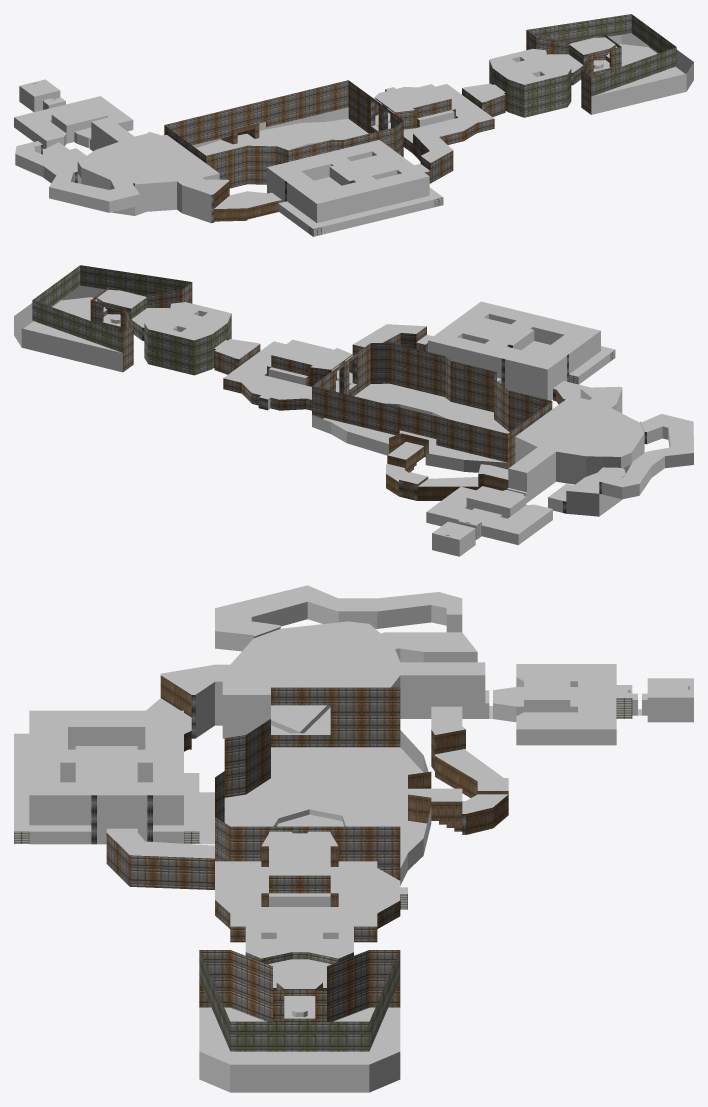
File: DoomHangar.obj
The picture shows the model from 3 angles, top to bottom: view 1: azimuth 30°, elevation 25°; view 2: azimuth 150°, elevation 25°; view 3: azimuth 270°, elevation 25°; orthographic projection. The views are drawn at different scales.
Parts seen in each view (by area): view 1: E1M1; view 2: E1M1; view 3: E1M1.
Part boxes in pixels (left/top/right/bottom): E1M1: left=14, top=14, right=693, bottom=236; E1M1: left=14, top=265, right=693, bottom=556; E1M1: left=14, top=585, right=693, bottom=1092.
Bounding box in the file's own units: 4576 × 400 × 2816.
